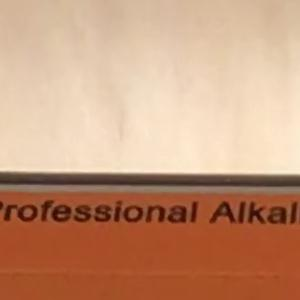ALK: (199, 191, 267, 234)
